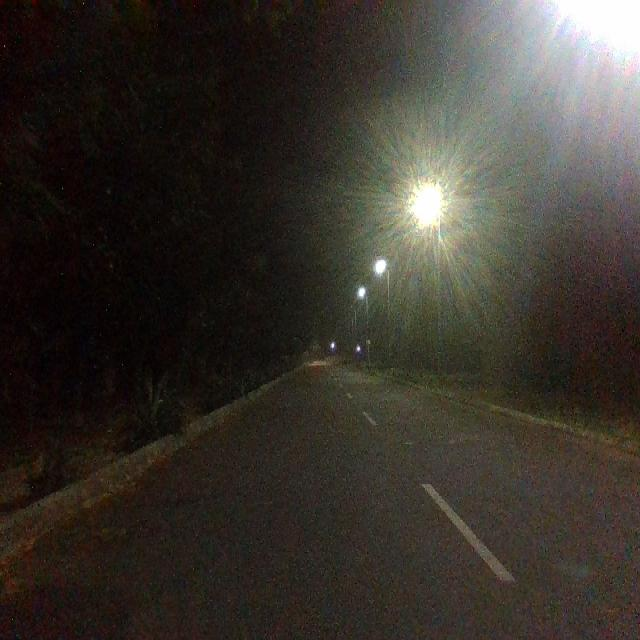lane: (0, 380, 554, 640)
